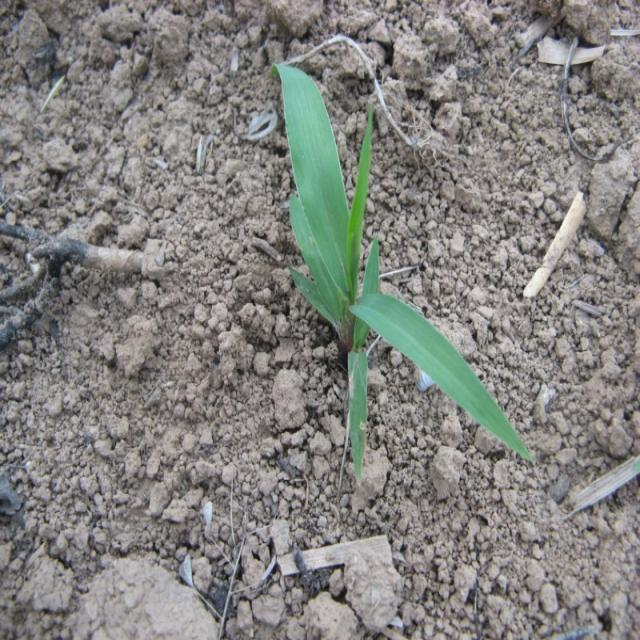bg: (272, 63, 538, 479)
